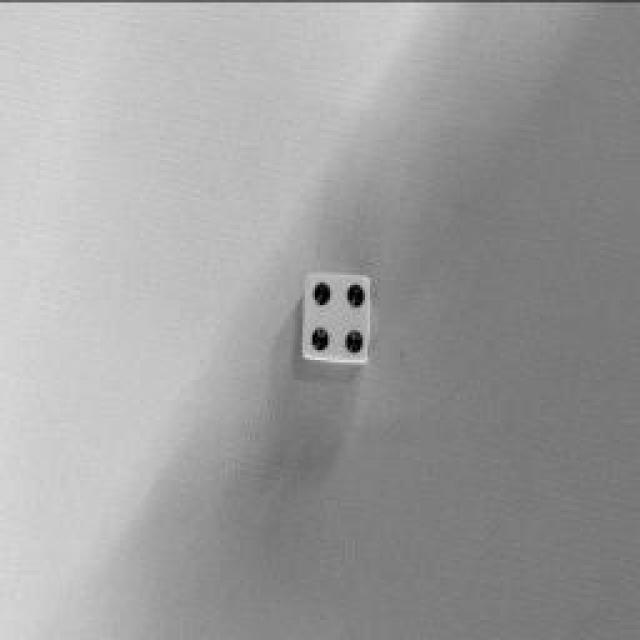dice_4: (304, 274, 368, 361)
